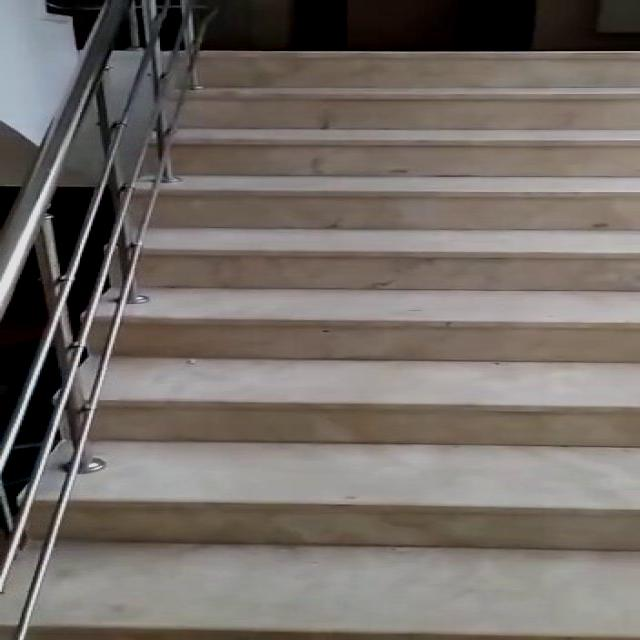stair: (63, 51, 640, 640)
